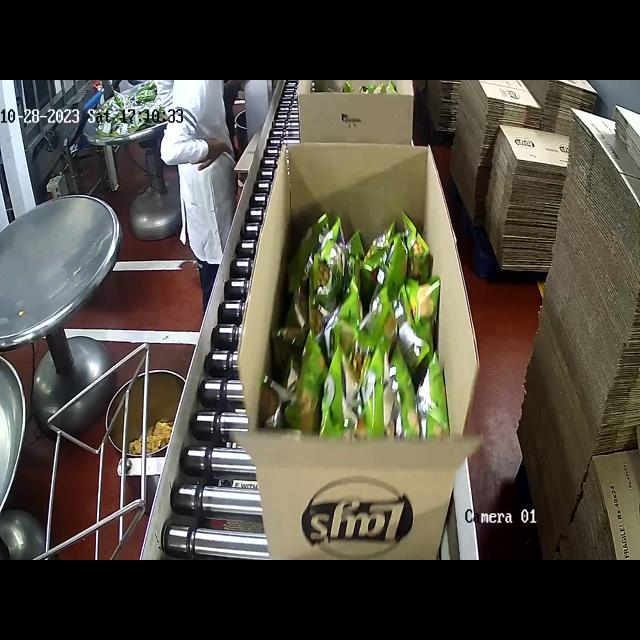yogurt: (291, 208, 438, 450)
